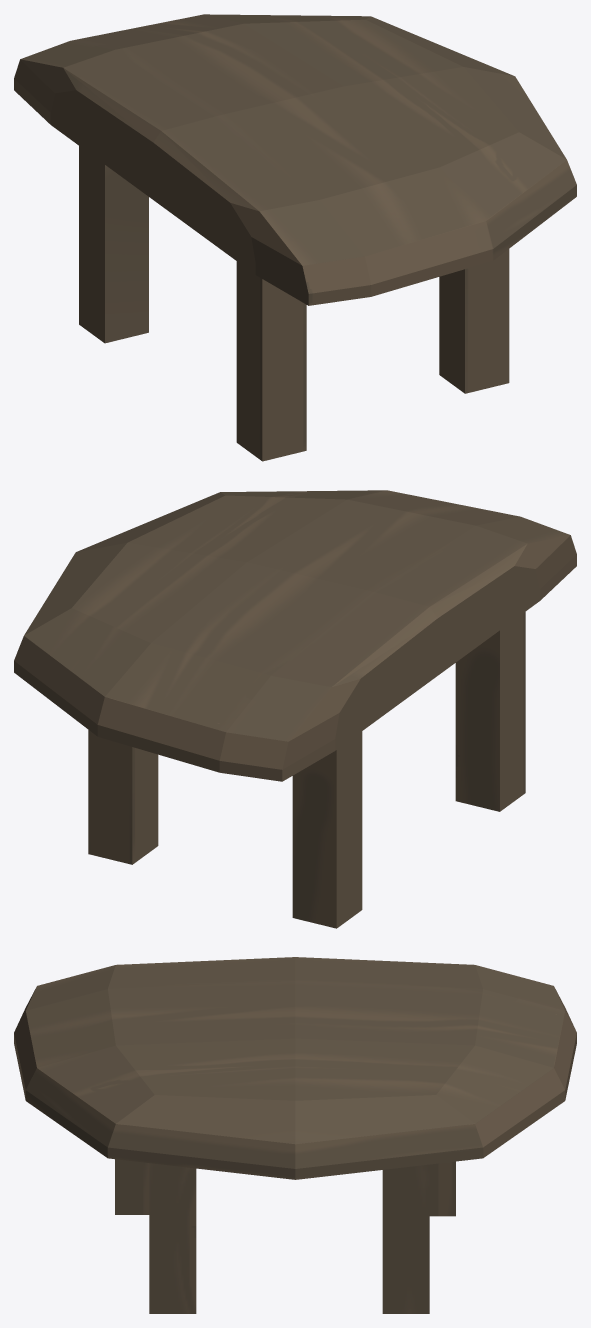
The model's file is smolendtable.fbx.
3 views of the same model, one above another, from view 1: azimuth 30°, elevation 25°; view 2: azimuth 150°, elevation 25°; view 3: azimuth 270°, elevation 25° (orthographic). The views are drawn at different scales.
Parts seen in each view (by area): view 1: Cube; view 2: Cube; view 3: Cube.
Boxes of the visible parts, box(x1,y1,x2,y2) form: Cube: box(14, 14, 576, 461); Cube: box(14, 490, 576, 928); Cube: box(14, 957, 576, 1313).
Bounding box in the file's own units: 212 × 143 × 305.
1 material, 1 textured.
